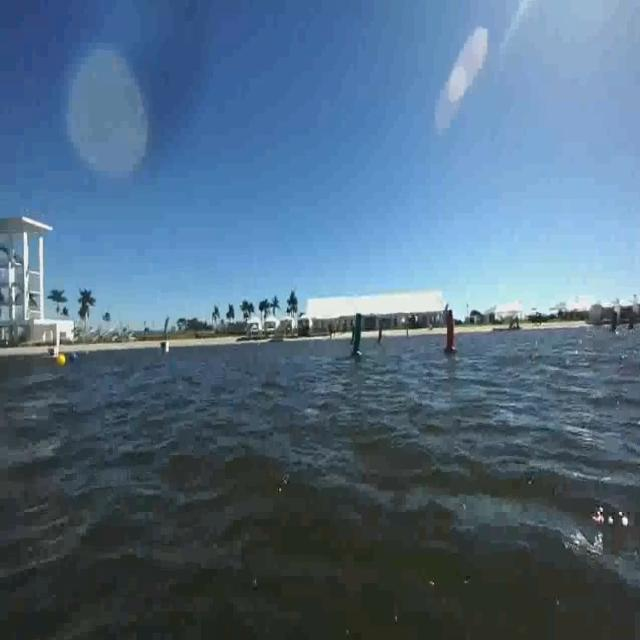green-column-buoy: (350, 311, 366, 363)
red-column-buoy: (443, 308, 458, 359)
yellow-buoy: (57, 345, 67, 366)
